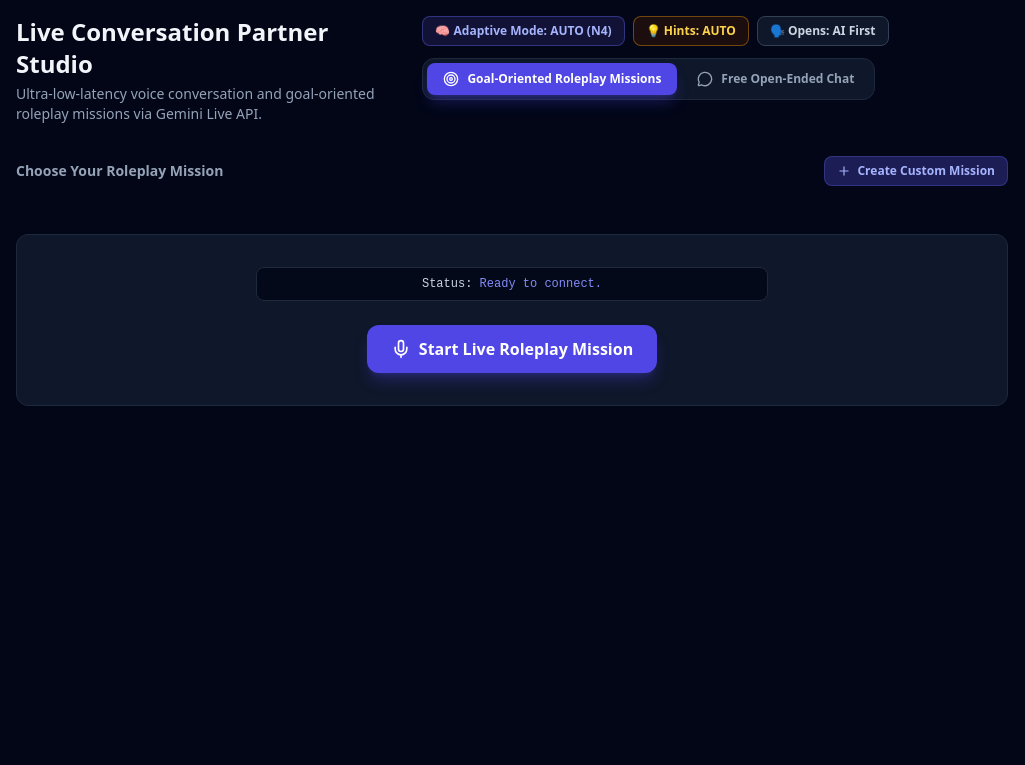
Test: LivePartnerView › renders speaking suggestions in Free Open-Ended Chat mode when turn completes
# Switch to Free Chat mode
Click the button "Free Open-Ended Chat".
click(776, 79)  # box x1=681 y1=63 x2=870 y2=95
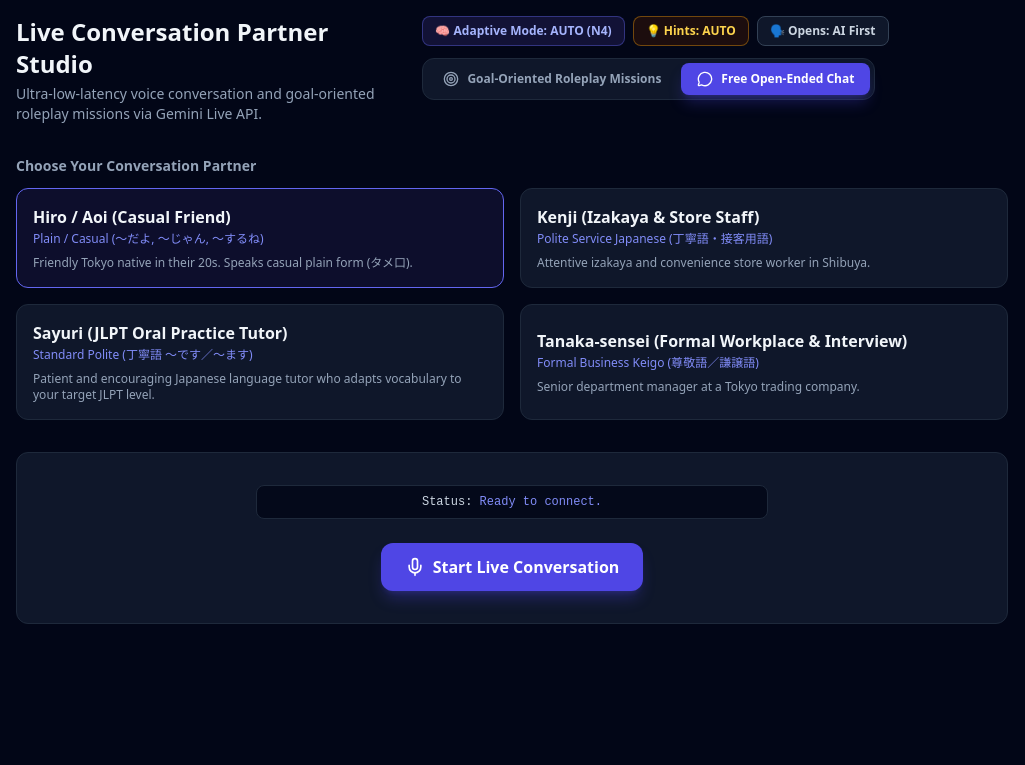
Click the button "Start Live Conversation".
click(512, 567)  # box x1=381 y1=543 x2=643 y2=591
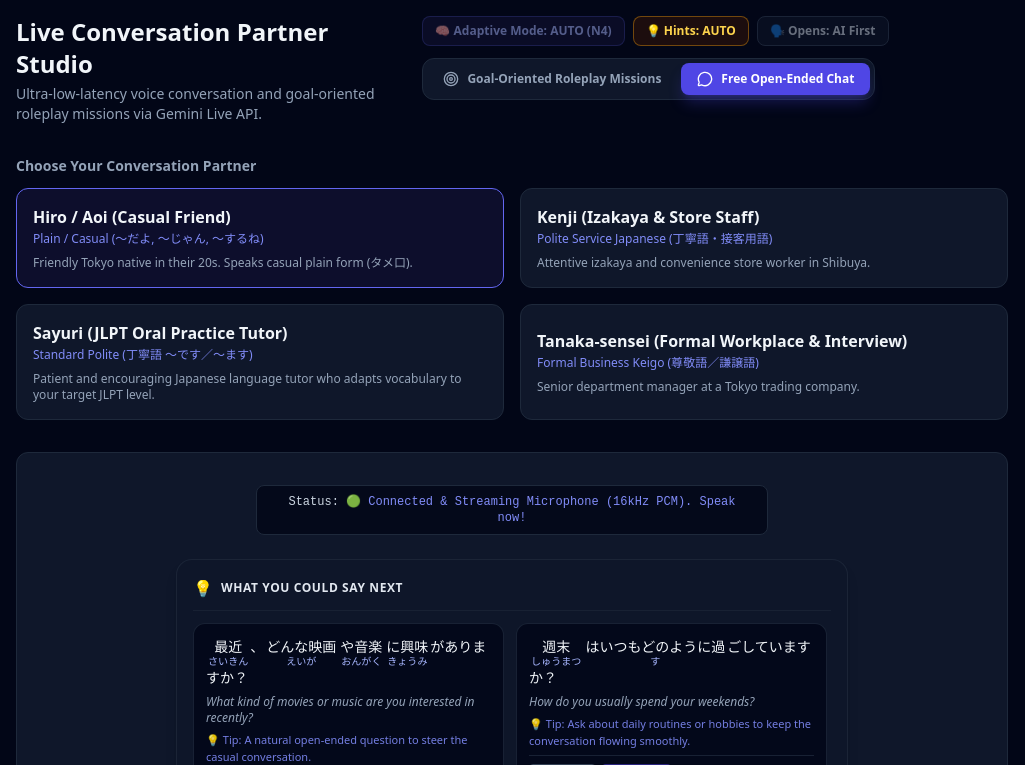
Result: the text "What You Could Say Next" is shown at x1=221 y1=580 x2=403 y2=596
Result: the text "What kind of movies or music are you interested in recently?" is shown at x1=206 y1=694 x2=491 y2=726
